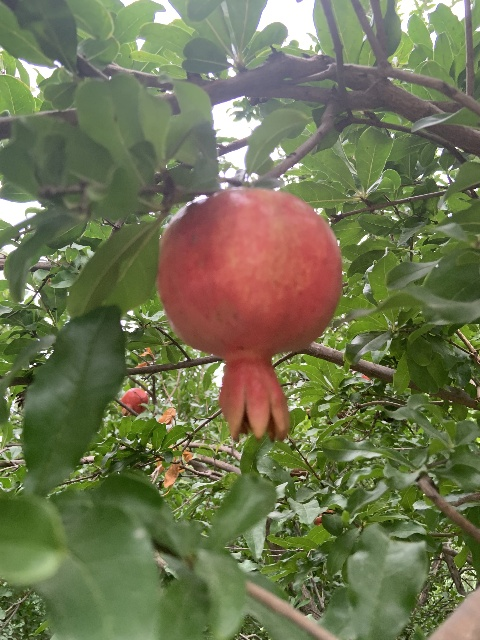ripe: (156, 186, 342, 437), (120, 387, 149, 415)
